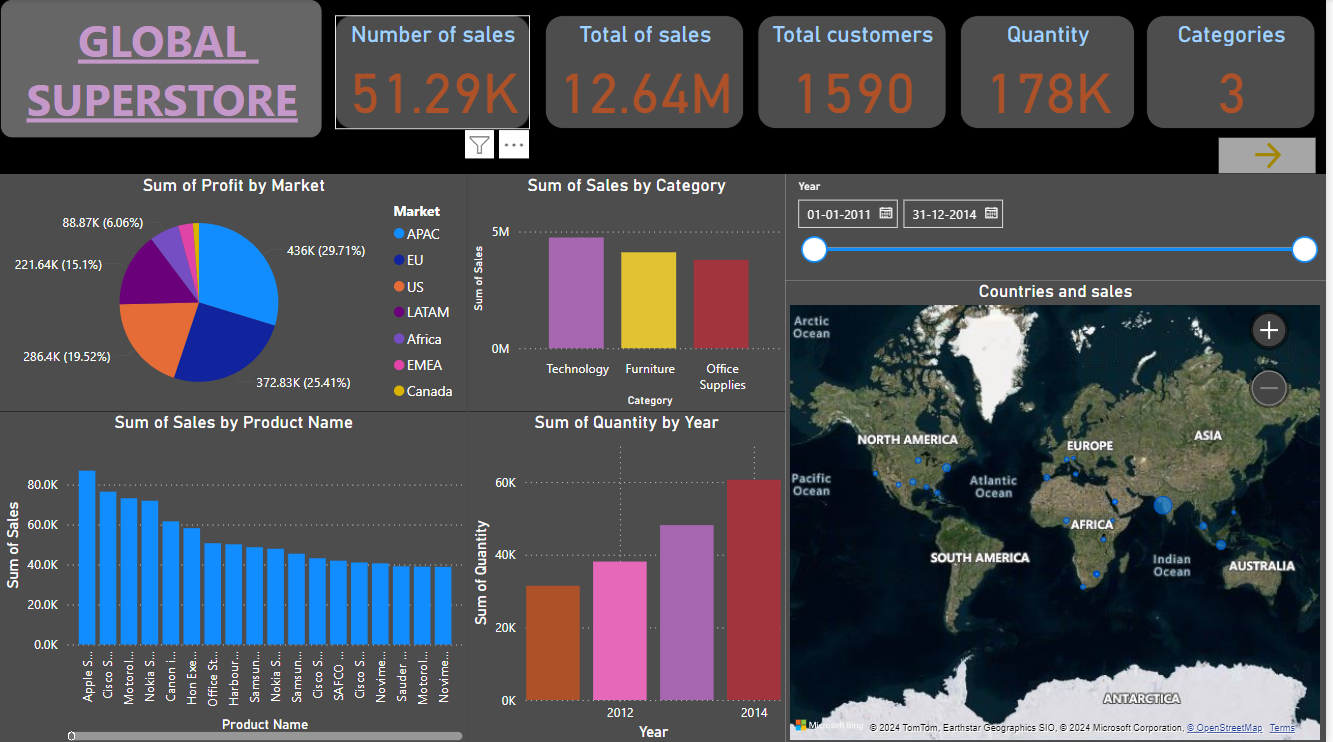

The page's visual inventory and layout, read from the dashboard file:
{"tool":"powerbi","page":{"name":"Dashboard","canvas":[1280,720],"ordinal":0},"visuals":[{"type":"card","title":"Number of sales","fields":{"Values":["CountNonNull(Orders.Sales)"]},"box":[323.8,15.1,188,109.8],"z":0},{"type":"card","title":"Total of sales","fields":{"Values":["Sum(Orders.Sales)"]},"box":[525.6,15.1,192.1,109.8],"z":1000},{"type":"card","title":"Quantity","fields":{"Values":["Sum(Orders.Quantity)"]},"box":[926.2,15.1,168.8,109.8],"z":2000},{"type":"card","title":"Total customers","fields":{"Values":["Count(Orders.Customer ID)"]},"box":[731.4,15.1,182.5,109.8],"z":3000},{"type":"card","title":"Categories","fields":{"Values":["Count(Orders.Category)"]},"box":[1106,15.1,163.3,109.8],"z":4000},{"type":"textbox","box":[0,0,311.5,134.5],"z":5000},{"type":"clusteredColumnChart","fields":{"Y":["Sum(Orders.Sales)"],"Category":["Orders.Category"]},"box":[451.5,168.8,307.4,229.2],"z":6000},{"type":"clusteredColumnChart","fields":{"Y":["Sum(Orders.Sales)"],"Category":["Orders.Product Name"]},"box":[0,397.9,451.5,322.5],"z":7000},{"type":"pieChart","fields":{"Category":["Orders.Market"],"Y":["Sum(Orders.Profit)"]},"box":[0,168.8,451.5,229.2],"z":8000},{"type":"clusteredColumnChart","fields":{"Category":["Orders.Order Date.Variation.Date Hierarchy.Year"],"Y":["Sum(Orders.Quantity)"]},"box":[451.5,397.9,307.4,322.5],"z":9000},{"type":"map","title":"Countries and sales","fields":{"Size":["Sum(Orders.Sales)"],"Category":["Orders.Country"]},"box":[757.6,271.4,522.4,448.8],"z":10000},{"type":"slicer","fields":{"Values":["Orders.Order Date"]},"box":[757.5,168.8,522.8,102.9],"z":11000},{"type":"actionButton","box":[1176,134.5,93.3,34.3],"z":12000}]}

Visuals, with their boxes in screenshot pixels (x1, y1, x2, y2), scaled from the page's 1280x720 canvas onto the 1333x742 screenshot:
"Number of sales" card: (left=337, top=16, right=533, bottom=129)
"Total of sales" card: (left=547, top=16, right=747, bottom=129)
"Quantity" card: (left=965, top=16, right=1140, bottom=129)
"Total customers" card: (left=762, top=16, right=952, bottom=129)
"Categories" card: (left=1152, top=16, right=1322, bottom=129)
textbox: (left=0, top=0, right=324, bottom=139)
clusteredColumnChart - Sum(Orders.Sales) x Orders.Category: (left=470, top=174, right=790, bottom=410)
clusteredColumnChart - Sum(Orders.Sales) x Orders.Product Name: (left=0, top=410, right=470, bottom=741)
pieChart - Orders.Market x Sum(Orders.Profit): (left=0, top=174, right=470, bottom=410)
clusteredColumnChart - Orders.Order Date.Variation.Date Hierarchy.Year x Sum(Orders.Quantity): (left=470, top=410, right=790, bottom=741)
"Countries and sales" map: (left=789, top=280, right=1332, bottom=741)
slicer - Orders.Order Date: (left=789, top=174, right=1332, bottom=280)
actionButton: (left=1225, top=139, right=1322, bottom=174)
